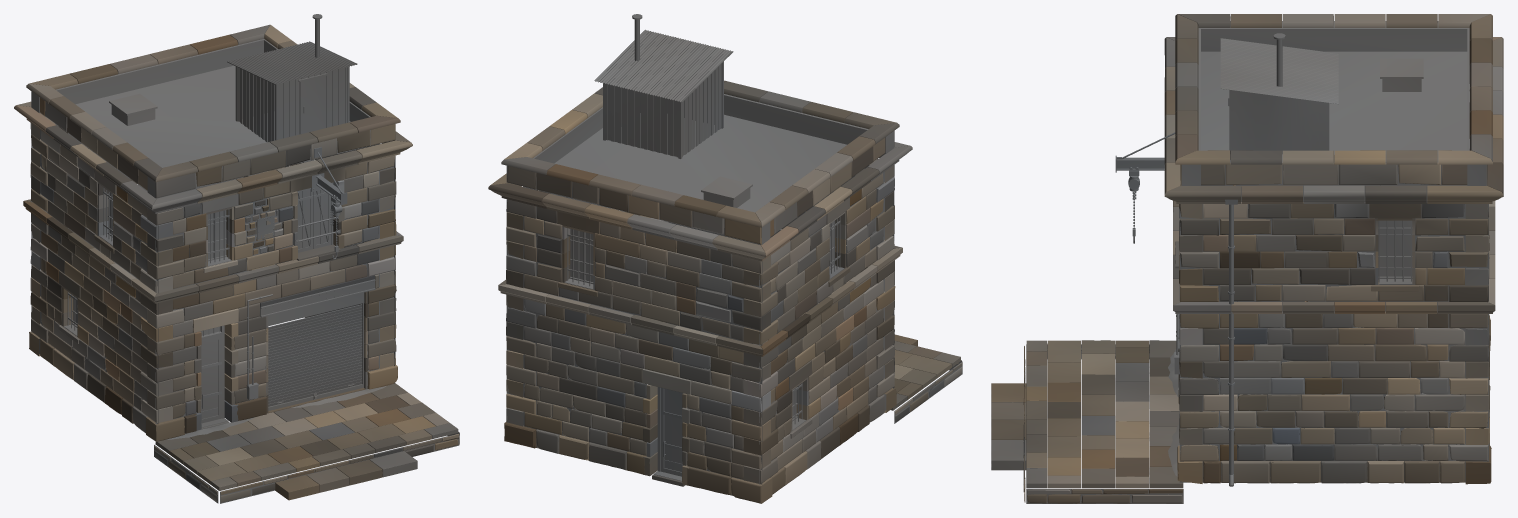
File: Salvage_LOD0.glb
3 views of the same model, side by side, from view 1: azimuth 30°, elevation 25°; view 2: azimuth 150°, elevation 25°; view 3: azimuth 270°, elevation 25° (orthographic). The views are drawn at different scales.
Parts seen in each view (by area): view 1: Salvage_Masonry_LOD0, Salvage_Trim_LOD0, Salvage_Metal_LOD0, Salvage_Porch_LOD0, Salvage_Roof_LOD0, Salvage_Sand_LOD0, Salvage_Glass_LOD0; view 2: Salvage_Masonry_LOD0, Salvage_Trim_LOD0, Salvage_Roof_LOD0, Salvage_Metal_LOD0, Salvage_Porch_LOD0, Salvage_Glass_LOD0; view 3: Salvage_Masonry_LOD0, Salvage_Trim_LOD0, Salvage_Porch_LOD0, Salvage_Roof_LOD0, Salvage_Metal_LOD0, Salvage_Glass_LOD0, Salvage_Sand_LOD0.
Boxes of the visible parts, x1,y1,x2,y2 form: Salvage_Masonry_LOD0: (29, 39, 397, 441); Salvage_Trim_LOD0: (14, 24, 412, 430); Salvage_Metal_LOD0: (67, 14, 375, 427); Salvage_Porch_LOD0: (154, 383, 459, 503); Salvage_Roof_LOD0: (75, 41, 357, 167); Salvage_Sand_LOD0: (64, 234, 386, 439); Salvage_Glass_LOD0: (73, 162, 302, 335); Salvage_Masonry_LOD0: (504, 94, 896, 503); Salvage_Trim_LOD0: (488, 80, 912, 485); Salvage_Roof_LOD0: (554, 29, 846, 212); Salvage_Metal_LOD0: (550, 14, 840, 480); Salvage_Porch_LOD0: (652, 334, 962, 486); Salvage_Glass_LOD0: (552, 192, 833, 416); Salvage_Masonry_LOD0: (1177, 21, 1491, 484); Salvage_Trim_LOD0: (1164, 14, 1503, 387); Salvage_Porch_LOD0: (991, 340, 1183, 503); Salvage_Roof_LOD0: (1201, 38, 1467, 154); Salvage_Metal_LOD0: (1115, 33, 1414, 486); Salvage_Glass_LOD0: (1378, 220, 1412, 276); Salvage_Sand_LOD0: (1168, 279, 1412, 476).
Bounding box in the file's own units: 8.46 × 11.24 × 11.73.
